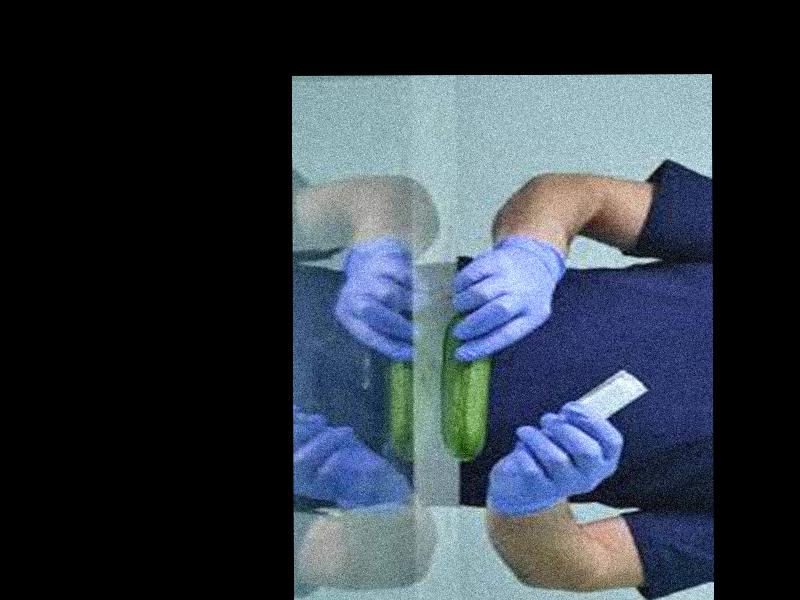Cucumber: (439, 314, 490, 461)
